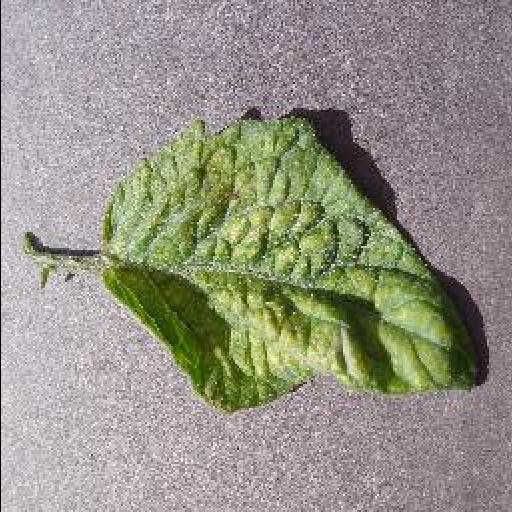disease_tomato: (98, 120, 478, 412)
